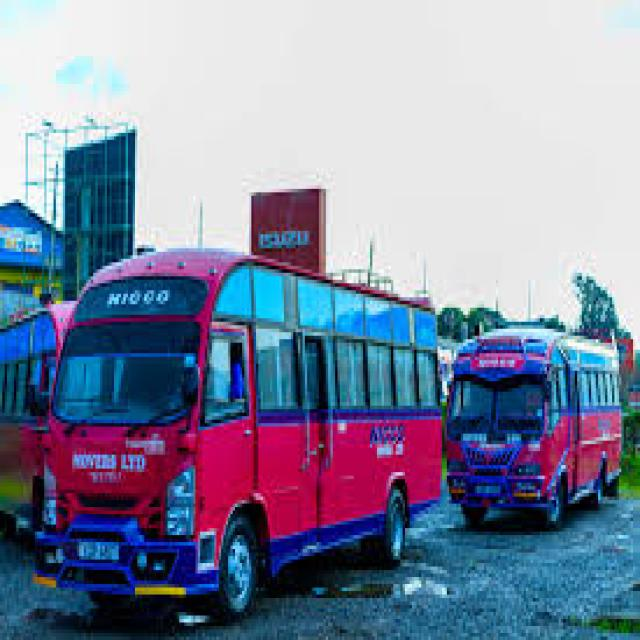bus: (16, 183, 446, 640), (443, 203, 635, 538)
